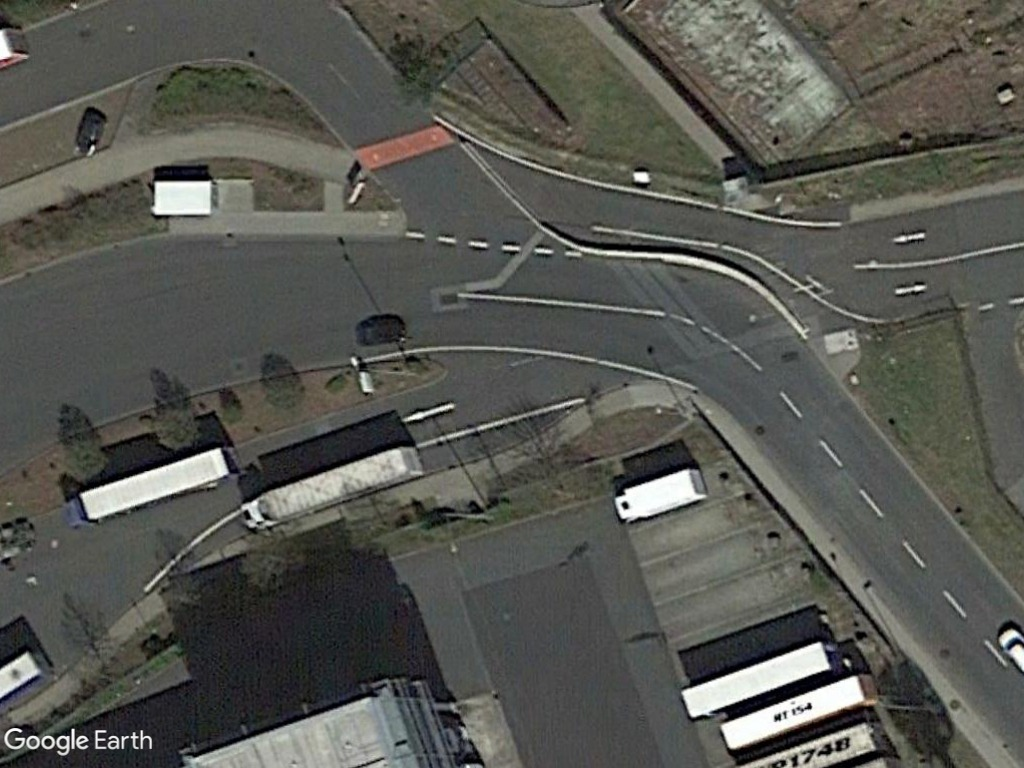longvehicle: (239, 440, 429, 534), (61, 442, 233, 530), (676, 640, 848, 726), (715, 671, 881, 760)
truck: (609, 461, 712, 524)
